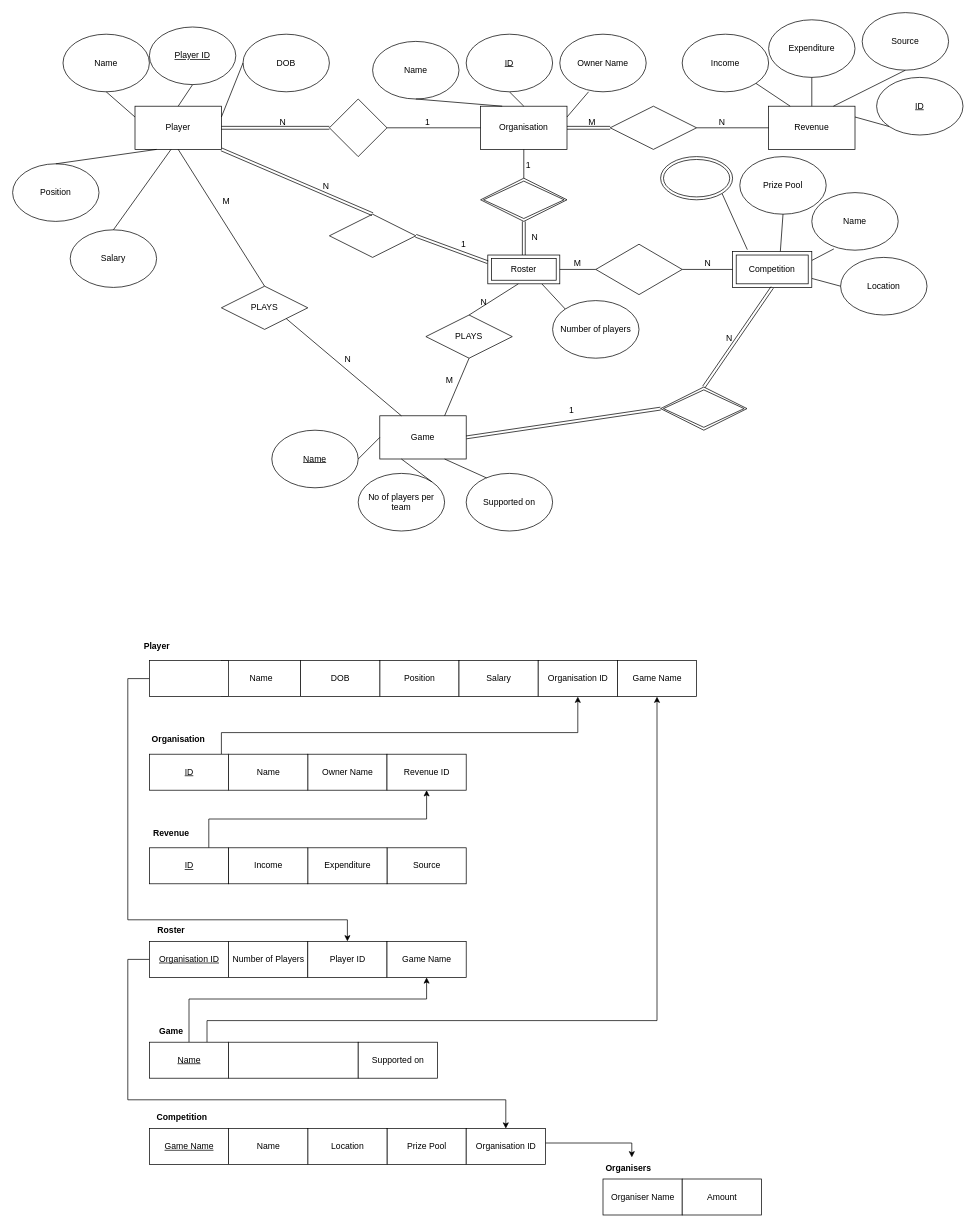
This 976x1228 diagram has some shape labels left out. The centre of each missing label's shape, as x and y in pixels:
BASED ON: the point at 703,408
EARNS: the point at 653,127
FORMS: the point at 523,199
IS PART OF: the point at 372,235
Number of players per team: the point at 293,1059
Organiser: the point at 696,178
PARTICIPATES IN: the point at 638,269
Player_ID: the point at 189,678
PLAYS FOR: the point at 358,127
